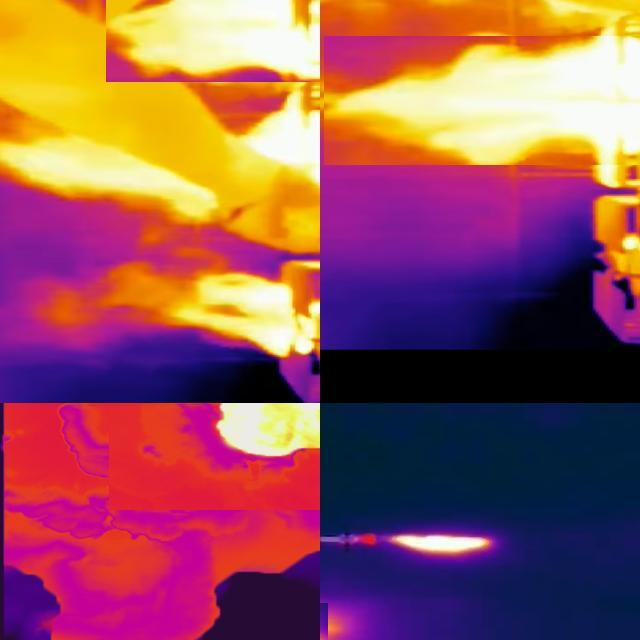fire: (489, 36, 640, 181), (230, 1, 321, 79), (250, 272, 321, 363), (216, 404, 320, 459), (249, 108, 322, 178), (387, 534, 491, 559)
